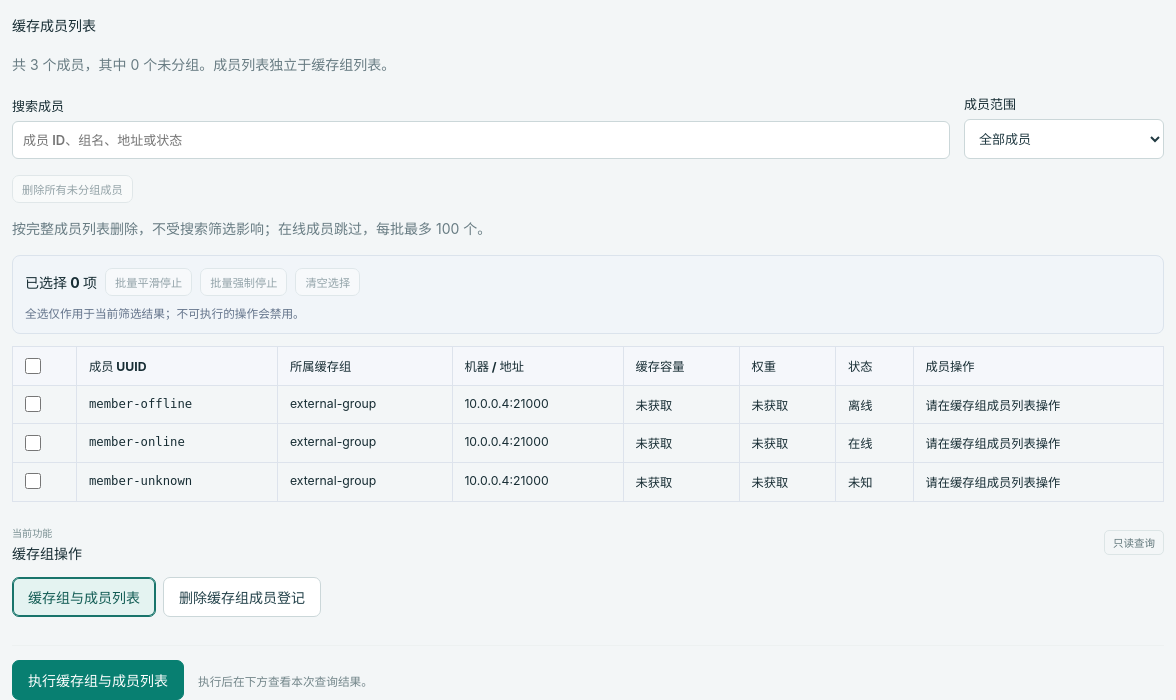
Test: failed explicit refresh invalidates previously usable results
(page scrolled)
Click the button "删除缓存组成员登记".
click(242, 597)  # box [163,577,321,617]
(page scrolled)
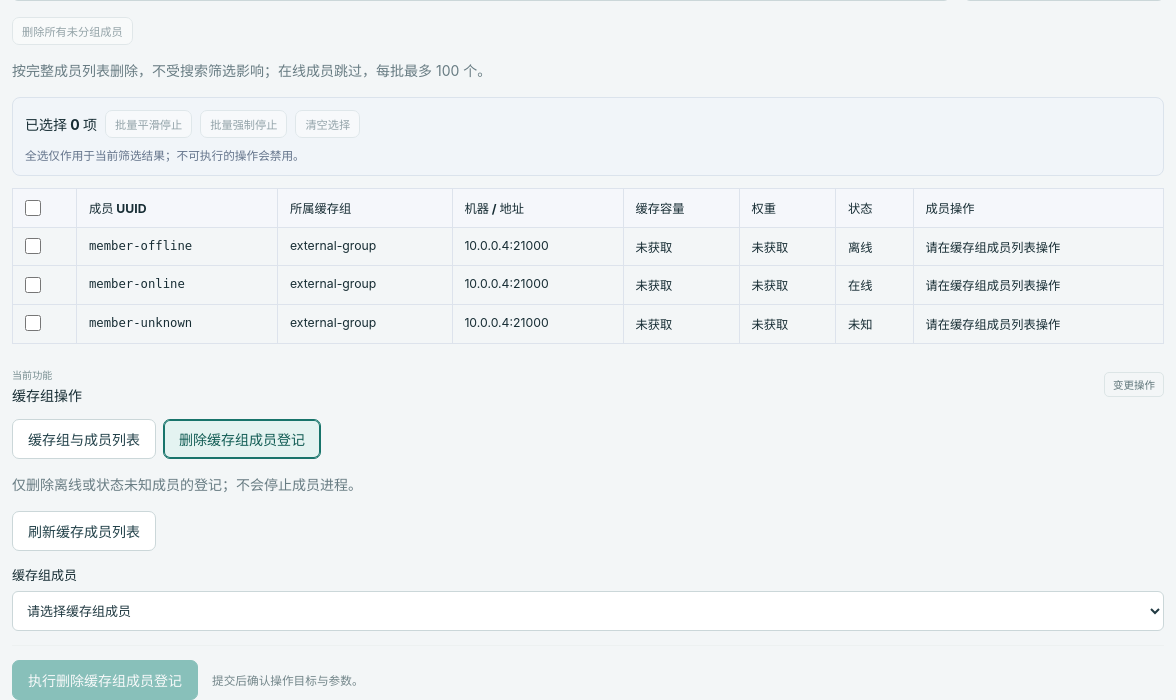
Select "external-group · member-offline · 10.0.0.4:21000 · 离线" in the dropdown labelled "缓存组成员" at (588, 611), box [12,591,1164,631]
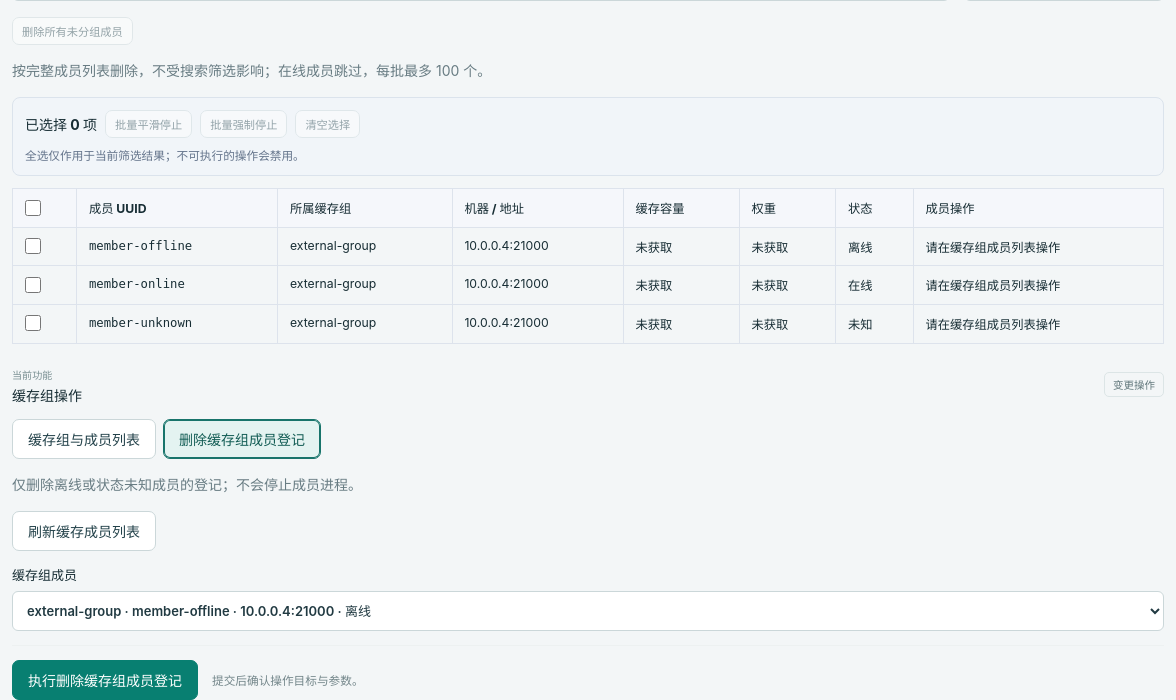
Click the button "刷新缓存成员列表".
click(84, 531)  # box [12,511,156,551]
(page scrolled)
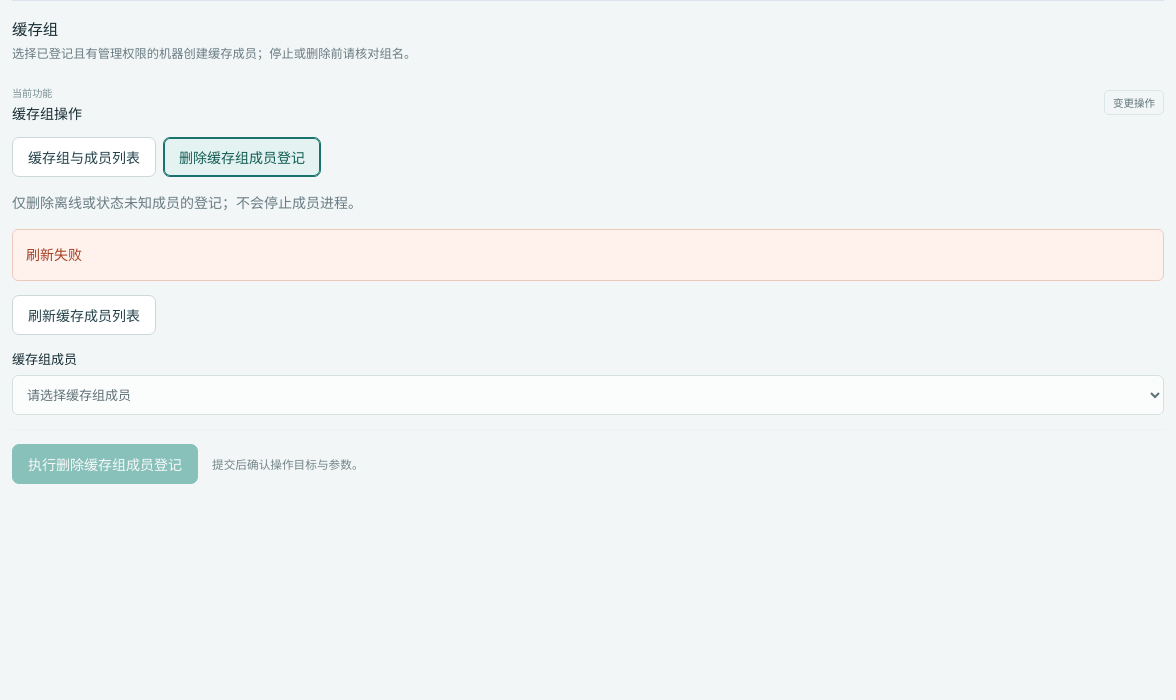
Expected: the message "刷新失败" is shown, [12,229,1164,281]
Expected: the button "执行删除缓存组成员登记" is disabled, [12,444,198,484]
Expected: the text "member-offline" is gone
